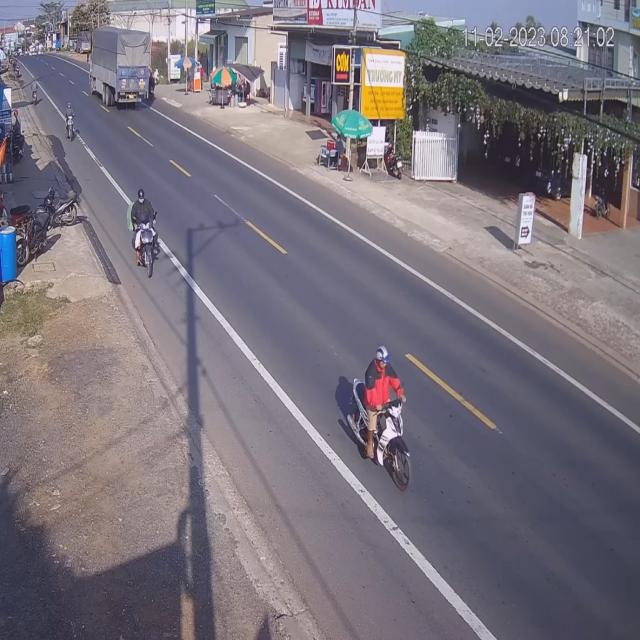motorbike: (340, 345, 409, 484), (130, 189, 161, 276), (62, 101, 76, 139), (28, 80, 39, 105)
truck: (87, 27, 152, 112)
